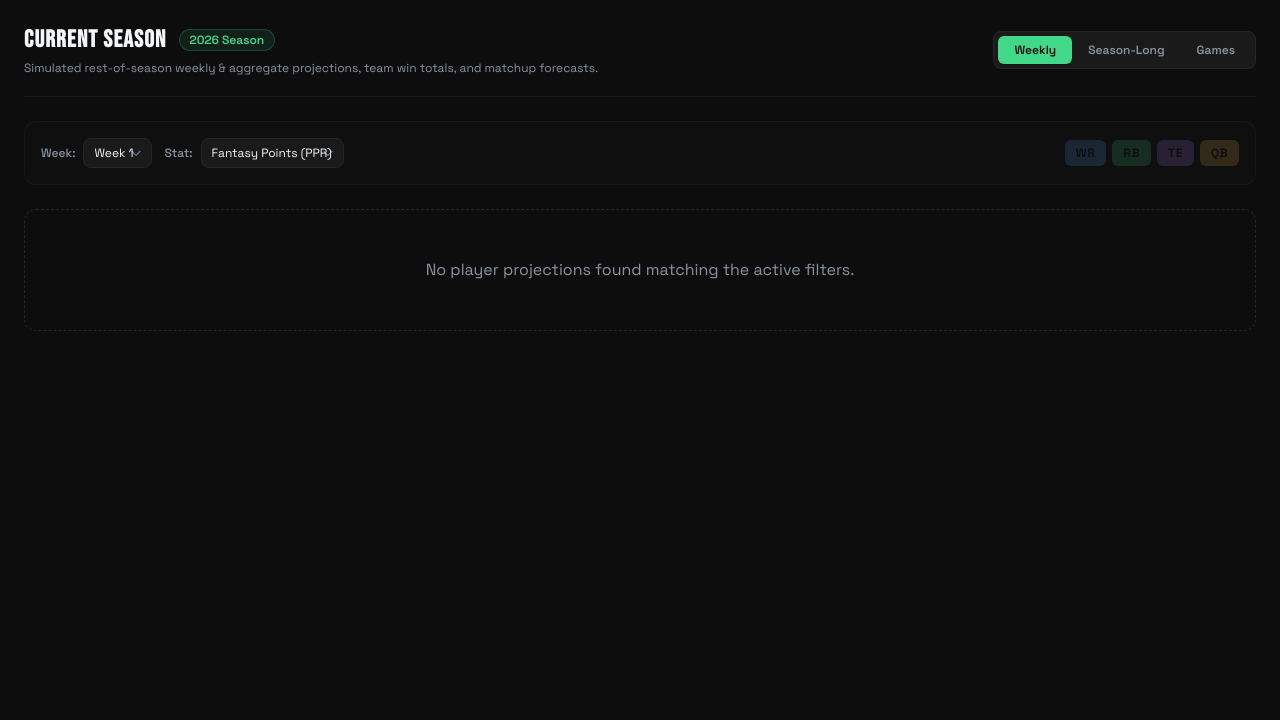
CurrentSeason › switches to Games tab and displays win totals and matchups
Click the button "Games".
click(1216, 50)  # box [1181,36,1251,64]
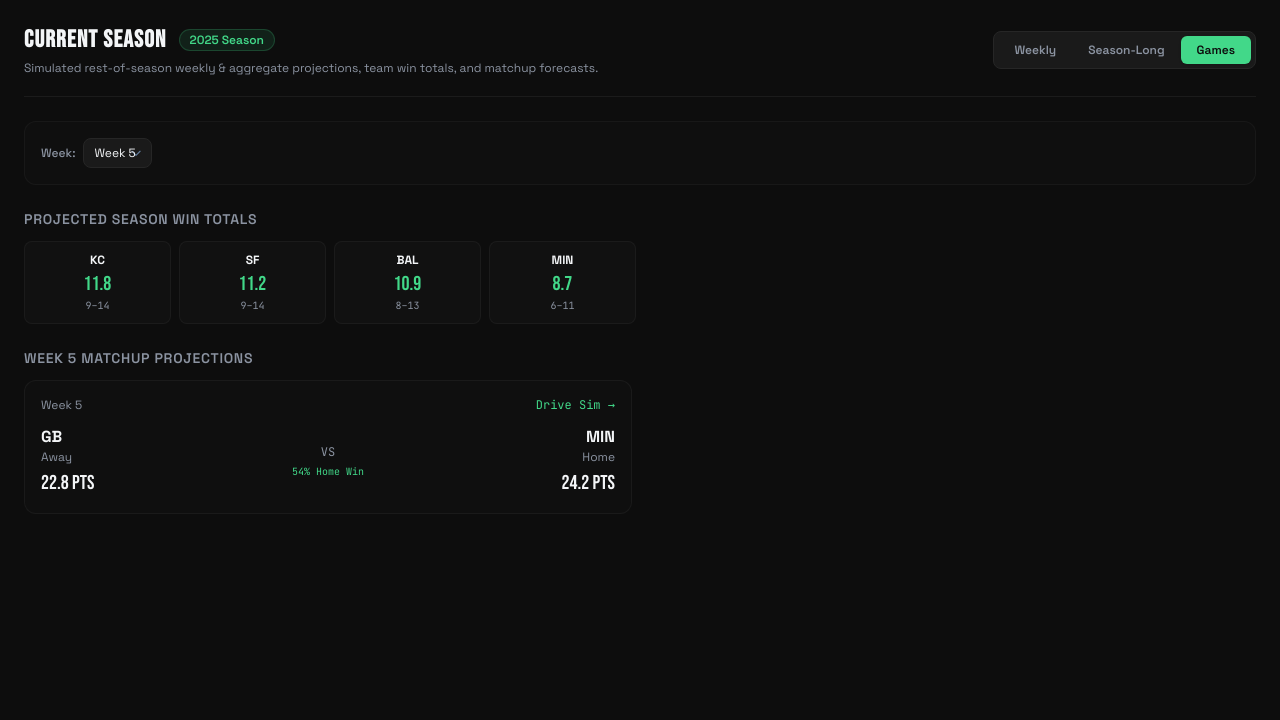
Check: the heading "Projected Season Win Totals" is shown, box [24,210,257,228]
Check: the heading "Week 5 Matchup Projections" is shown, box [24,349,253,367]
